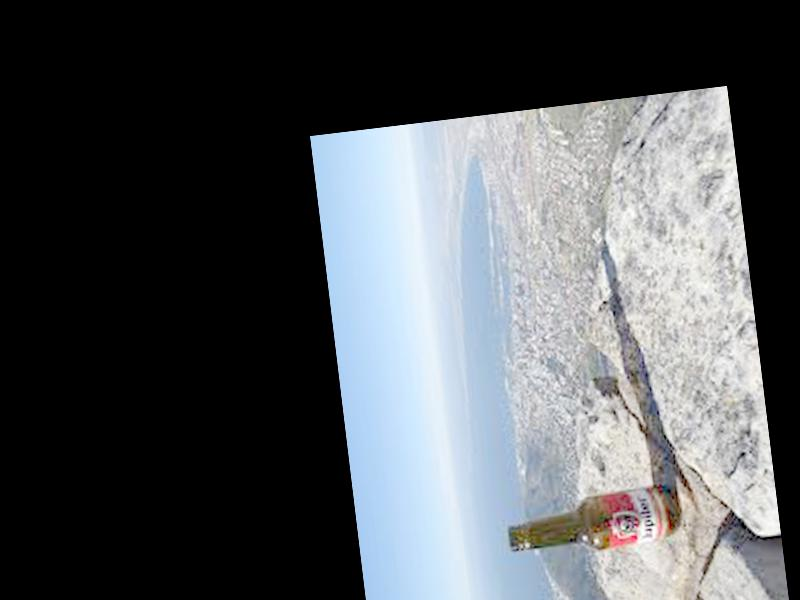Beer: (503, 484, 677, 562)
